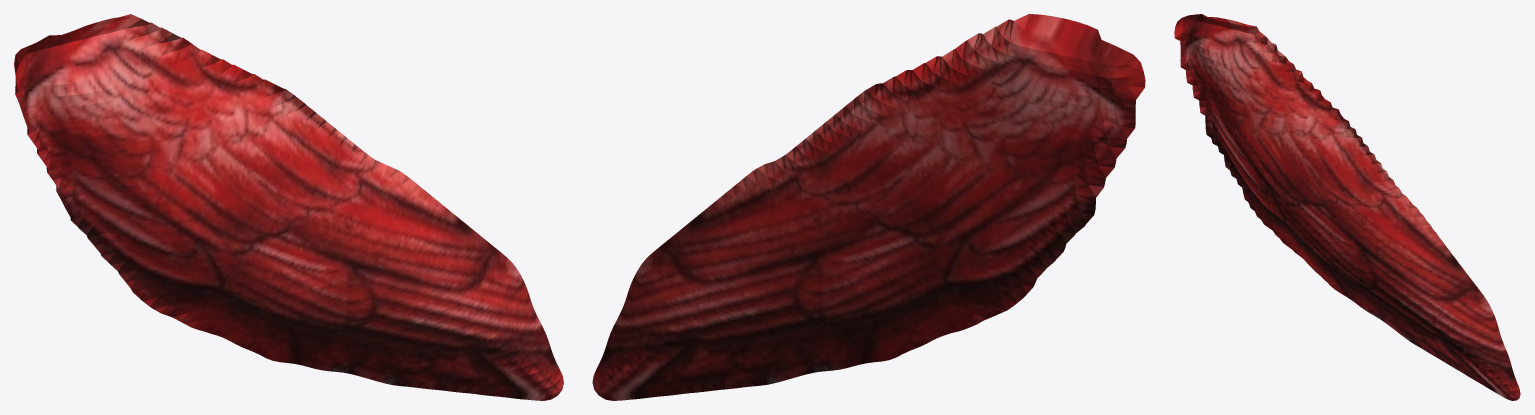
The model's file is subject_wing_ventral.obj.
3 views of the same model, side by side, from view 1: azimuth 30°, elevation 25°; view 2: azimuth 150°, elevation 25°; view 3: azimuth 330°, elevation 25° (orthographic). The views are drawn at different scales.
Parts seen in each view (by area): view 1: subject_wing_ventral; view 2: subject_wing_ventral; view 3: subject_wing_ventral.
Part boxes in pixels (bbox=[...]): subject_wing_ventral: bbox=[14, 14, 563, 400]; subject_wing_ventral: bbox=[592, 14, 1145, 400]; subject_wing_ventral: bbox=[1174, 14, 1520, 400].
Bounding box in the file's own units: 1.12 × 0.95 × 0.147.
1 material, 1 textured.
